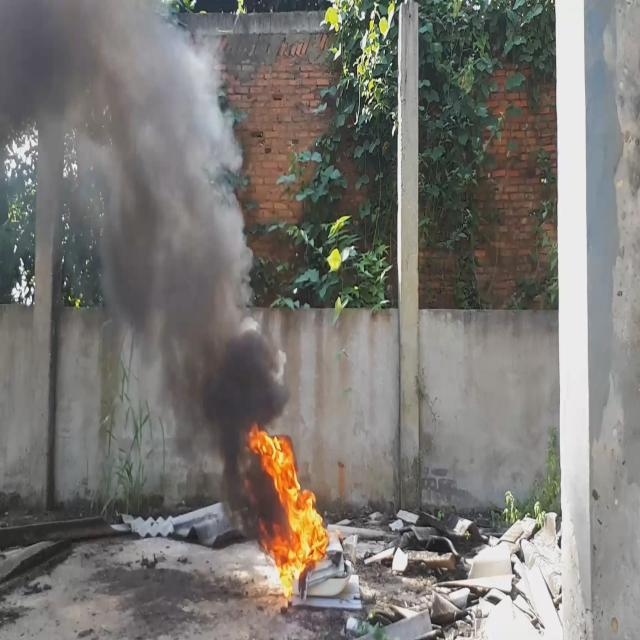Fire: (245, 418, 330, 604)
Smoke: (0, 0, 291, 539)
